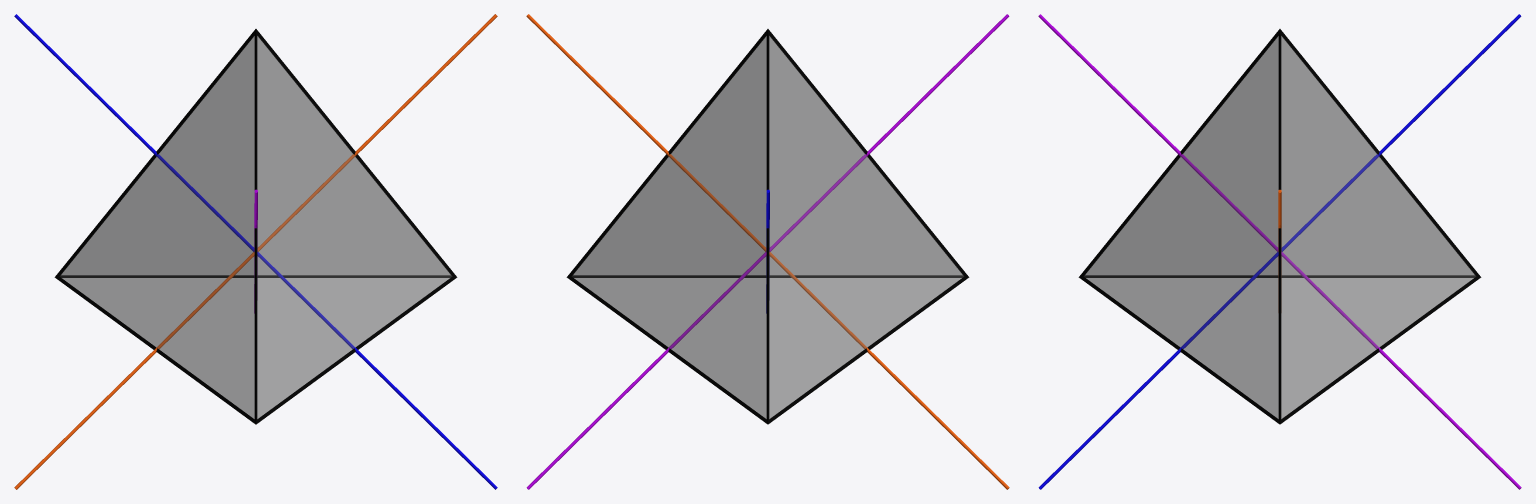
File: ptm_aristas.glb
3 views of the same model, side by side, from view 1: azimuth 30°, elevation 25°; view 2: azimuth 150°, elevation 25°; view 3: azimuth 270°, elevation 25° (orthographic).
Parts seen in each view (by area): view 1: Solid.003, Solid.001, Cylinder, Cylinder.006; view 2: Solid.003, Solid.001, Cylinder, Cylinder.005; view 3: Solid.003, Solid.001, Cylinder.005, Cylinder.006.
Part boxes in pixels (box(x1,y1,x2,y2)): Solid.003: box(60, 36, 451, 418); Solid.001: box(54, 29, 457, 424); Cylinder: box(14, 14, 497, 489); Cylinder.006: box(14, 14, 497, 489); Solid.003: box(572, 36, 963, 418); Solid.001: box(566, 29, 969, 424); Cylinder: box(526, 14, 1009, 489); Cylinder.005: box(526, 14, 1009, 489); Solid.003: box(1084, 36, 1475, 418); Solid.001: box(1078, 29, 1481, 424); Cylinder.005: box(1038, 14, 1521, 489); Cylinder.006: box(1038, 14, 1521, 489).
Bounding box in the file's own units: 2.28 × 1.82 × 1.98.
